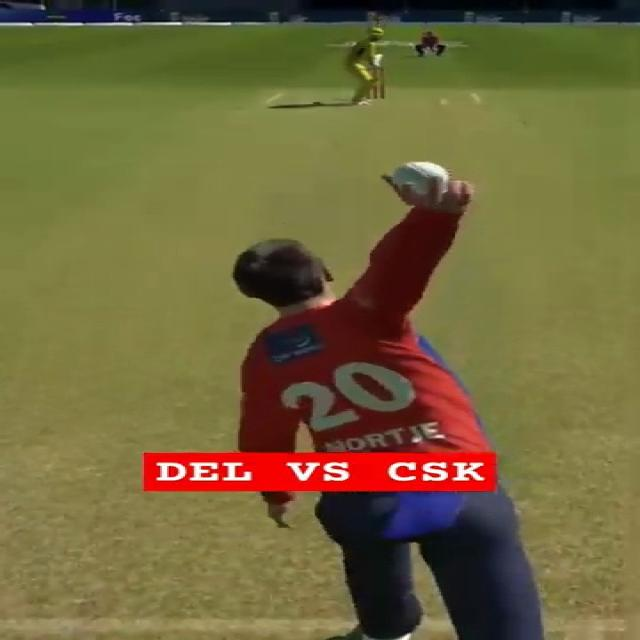ball: (380, 160, 455, 194)
